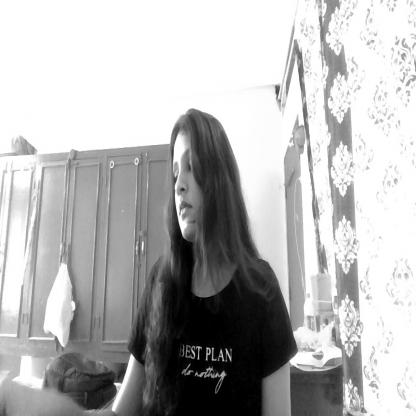Distracted: (167, 111, 230, 261)
